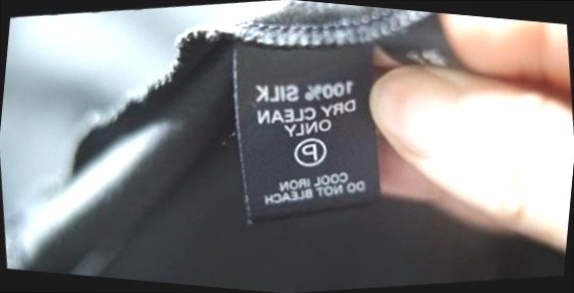dry_clean_any_solvent_except_trichloroethylene: (289, 133, 330, 171)
